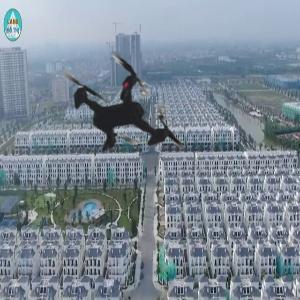drone: (26, 12, 225, 211)
